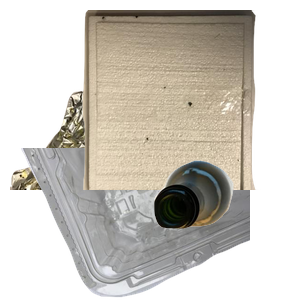glass: (151, 158, 300, 300)
metal: (10, 32, 250, 212)
plastic: (19, 148, 259, 300)
trash: (80, 10, 300, 190)
